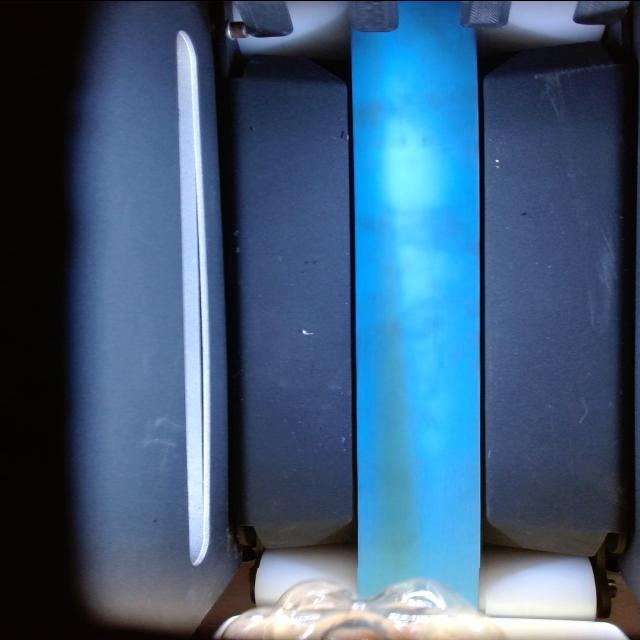bottom: (202, 567, 540, 637)
